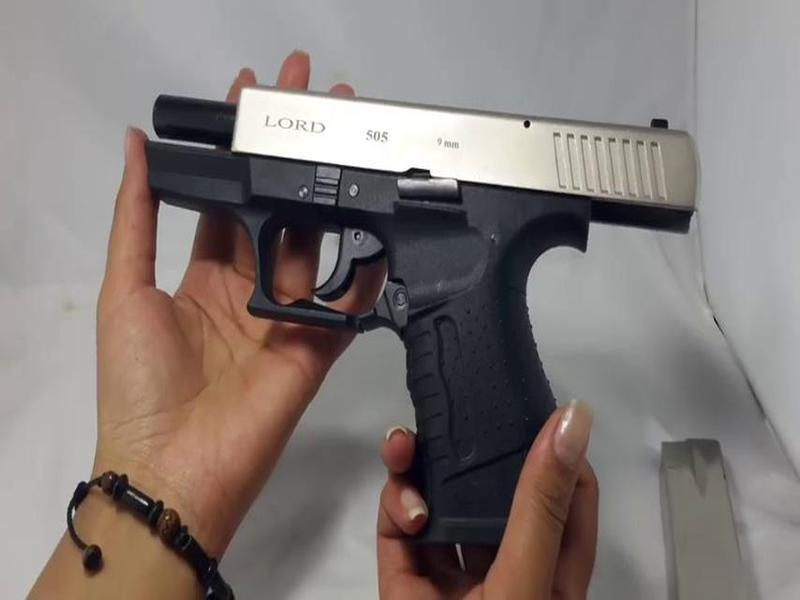Pistola: (119, 63, 707, 550)
